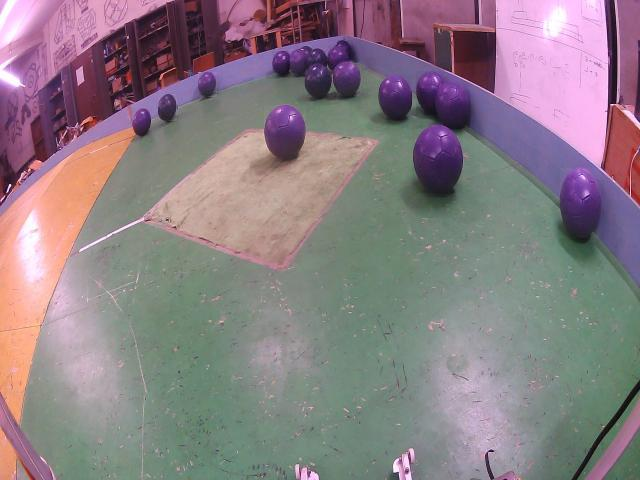jambhalya: (413, 125, 462, 193), (560, 169, 601, 238), (264, 105, 306, 160), (435, 82, 470, 128), (379, 75, 412, 120), (416, 72, 444, 114), (333, 61, 361, 96), (133, 108, 151, 136), (329, 45, 349, 70), (198, 73, 217, 97), (290, 50, 307, 75), (273, 51, 290, 76)
kaalyya: (305, 64, 331, 98), (158, 95, 177, 121), (307, 48, 328, 67), (337, 40, 353, 60), (300, 45, 312, 53)
